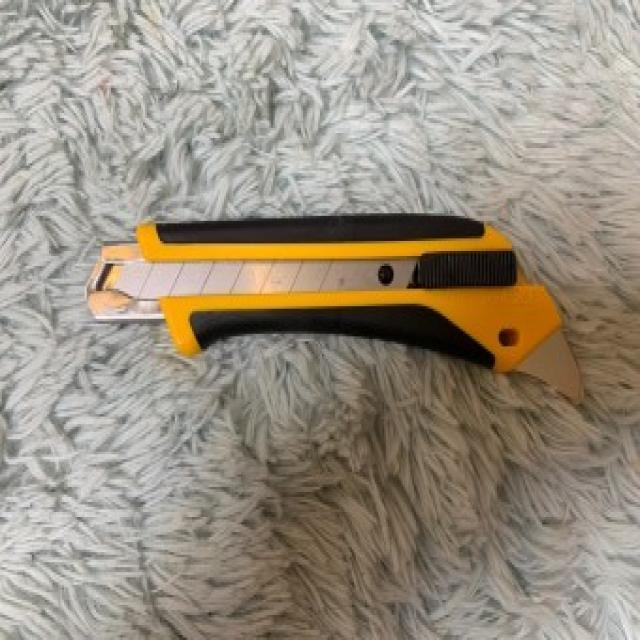cutter: (70, 211, 568, 389)
